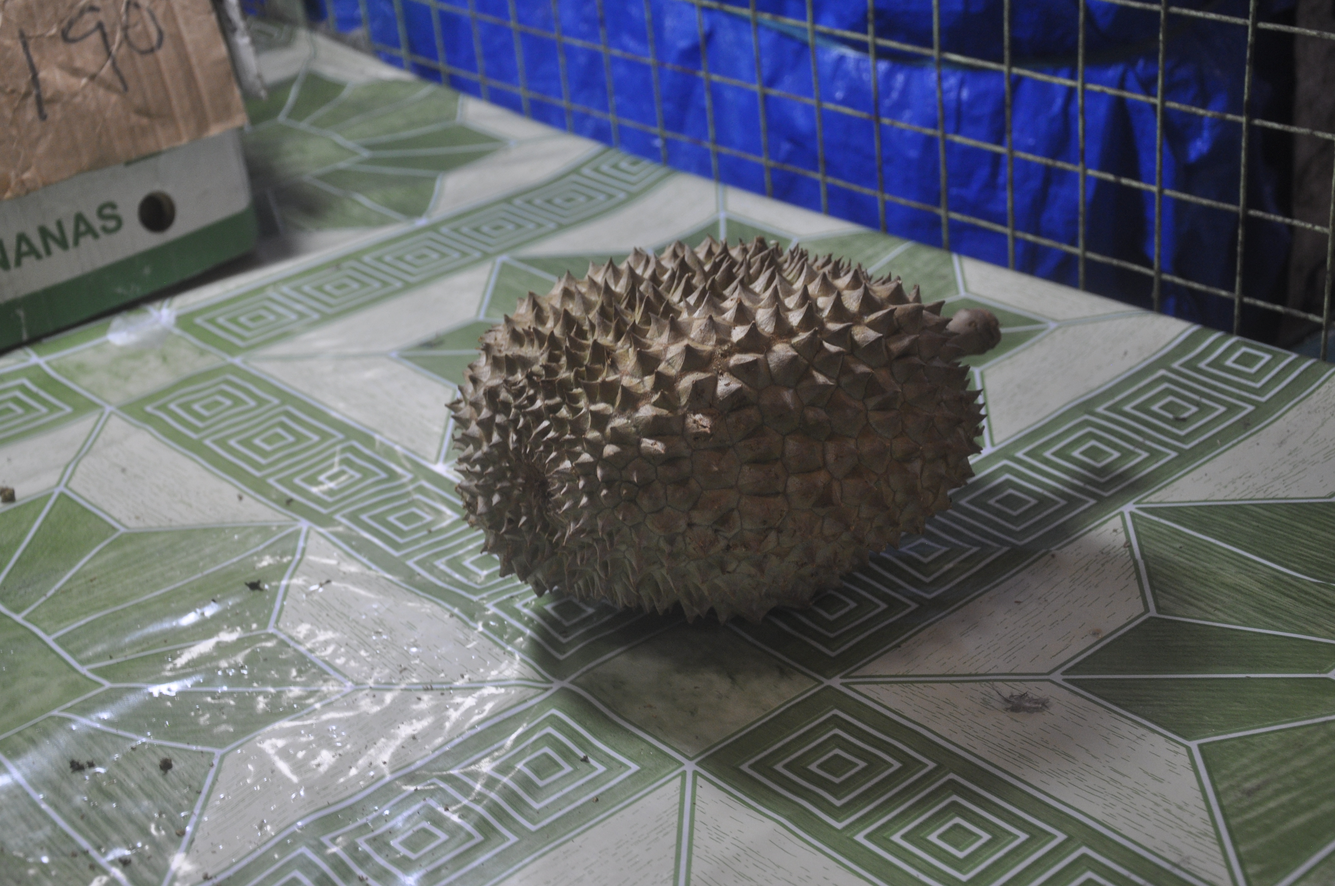mature: (453, 238, 1000, 633)
